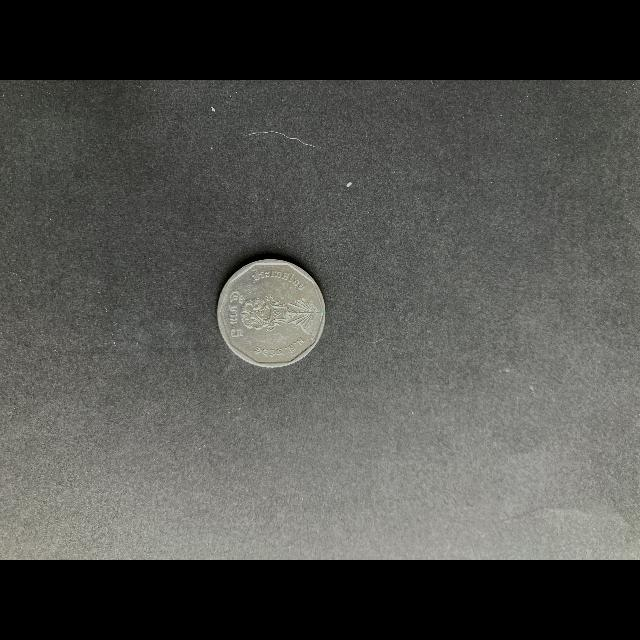5 Bath: (216, 254, 329, 372)
